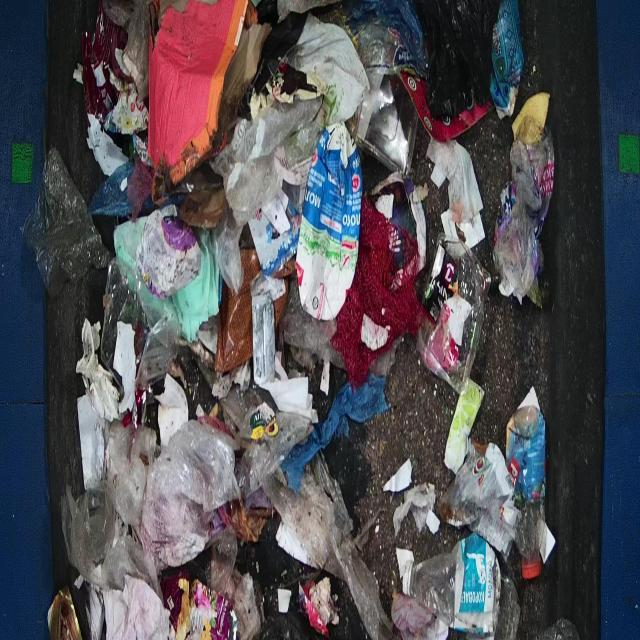cardboard: (35, 0, 604, 638)
